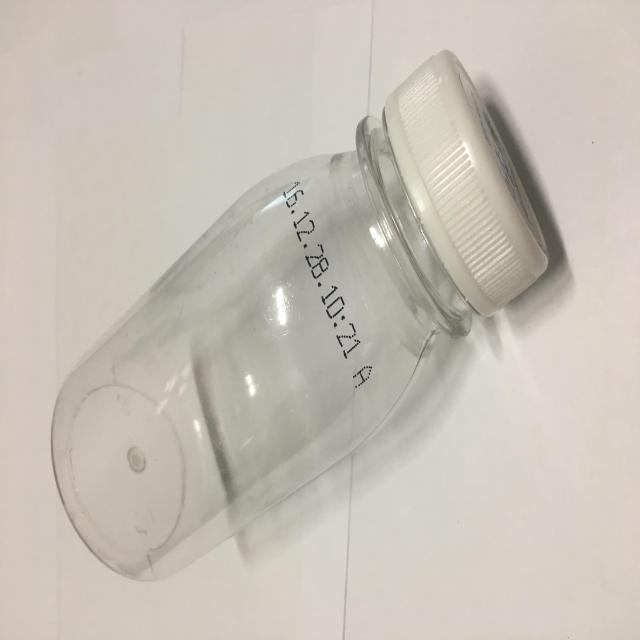bottle: (44, 54, 561, 590)
